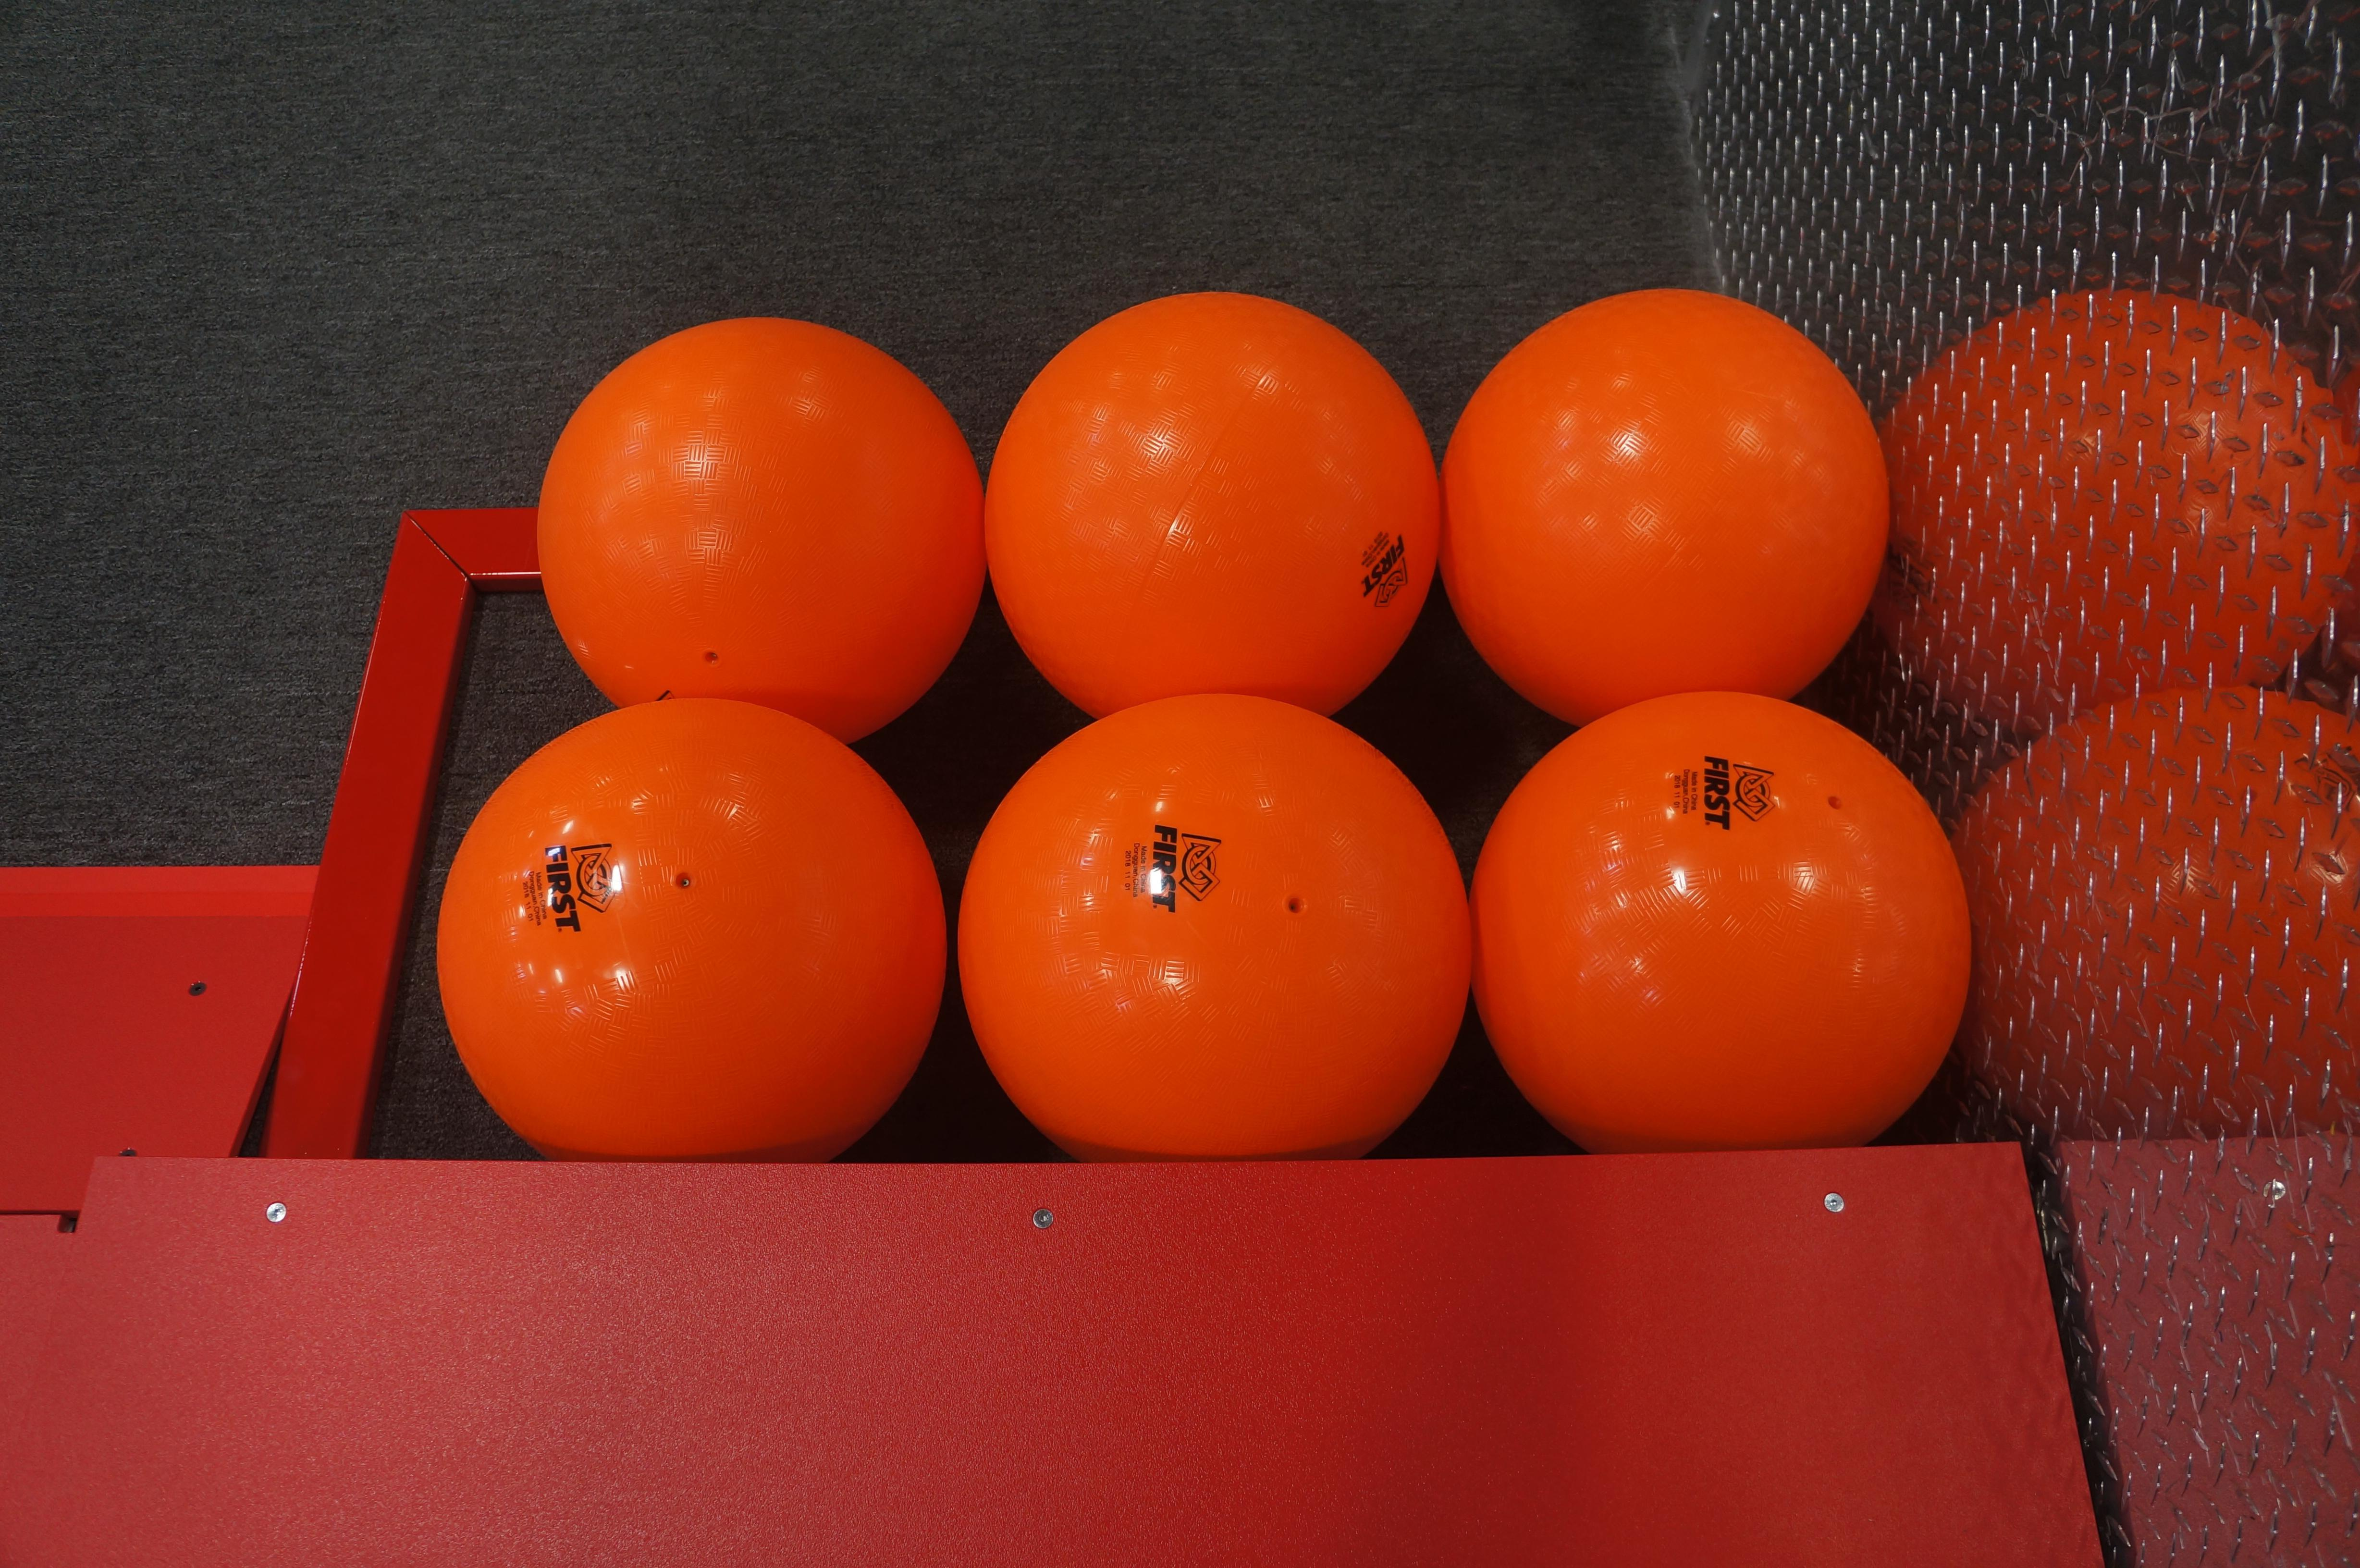Ball: (948, 693, 1473, 1165), (439, 695, 948, 1165), (1473, 689, 1975, 1155), (987, 289, 1442, 724), (1442, 285, 1891, 724), (535, 317, 983, 747)
